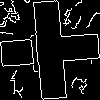I: (25, 25, 44, 72)
